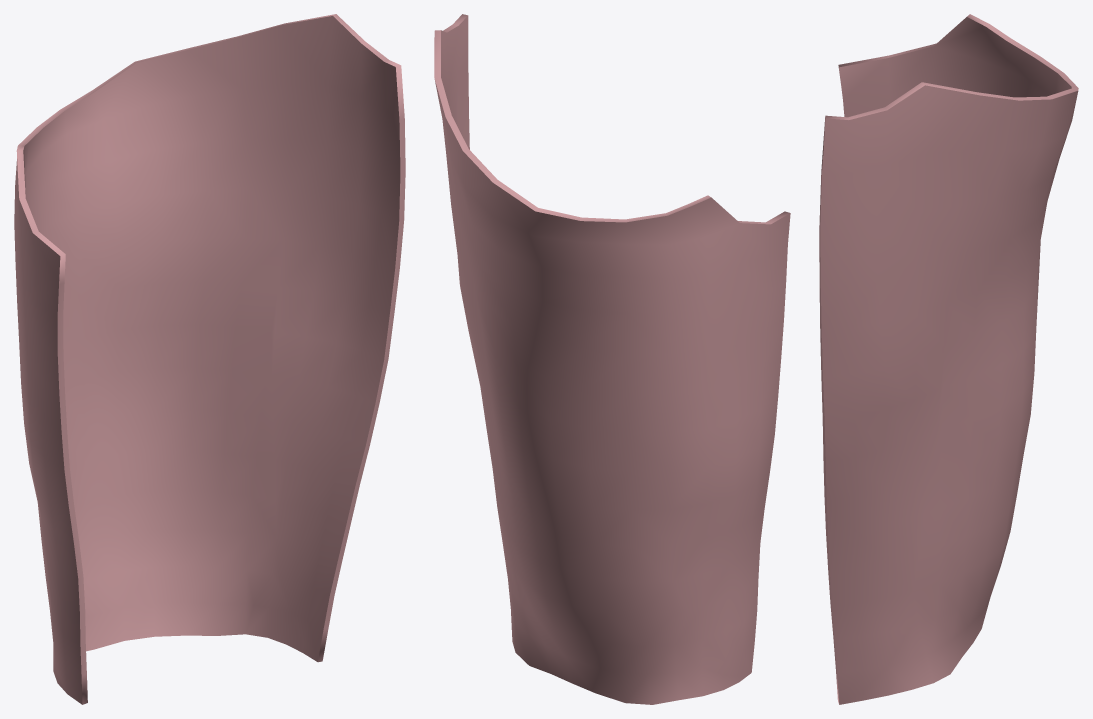
3 renders of one model, left to right at view 1: azimuth 30°, elevation 25°; view 2: azimuth 150°, elevation 25°; view 3: azimuth 270°, elevation 25°, orthographic. The views are drawn at different scales.
Visible parts, largest first — view 1: ZA_ae69407804d1c31a; view 2: ZA_ae69407804d1c31a; view 3: ZA_ae69407804d1c31a.
Boxes of the visible parts, left/top/right/bottom form: ZA_ae69407804d1c31a: left=14, top=14, right=405, bottom=704; ZA_ae69407804d1c31a: left=434, top=14, right=790, bottom=704; ZA_ae69407804d1c31a: left=819, top=14, right=1078, bottom=704.
Bounding box in the file's own units: 0.1798 × 0.3053 × 0.1106.
